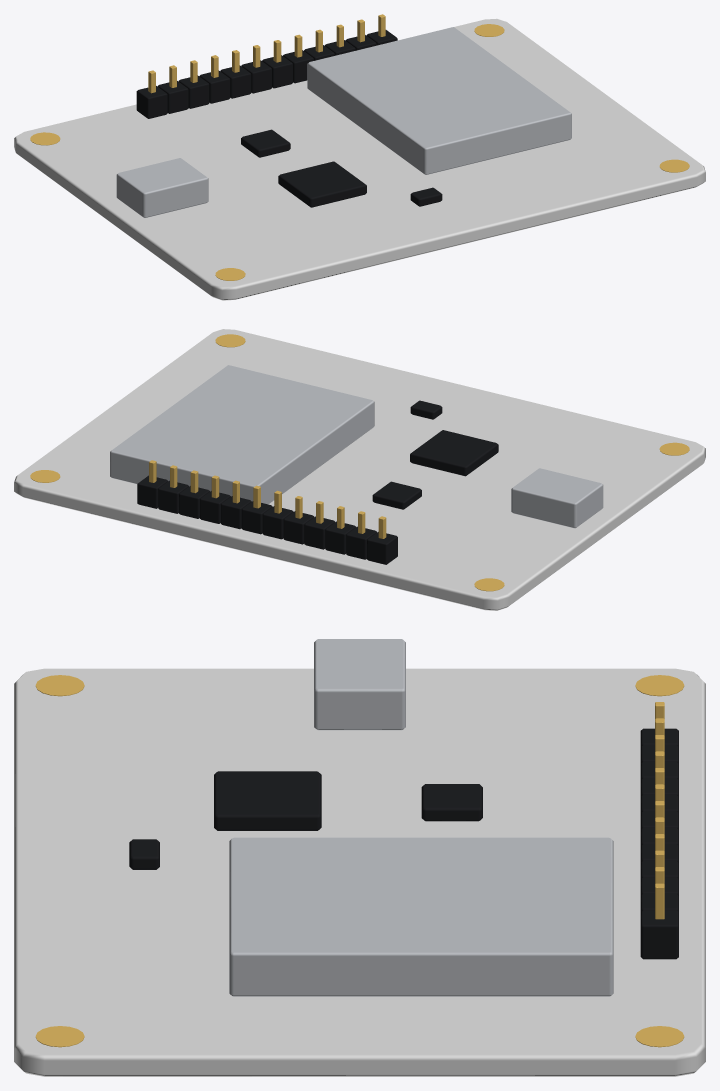
Rendered from main-board.glb.
3 views of the same model, one above another, from view 1: azimuth 30°, elevation 25°; view 2: azimuth 150°, elevation 25°; view 3: azimuth 270°, elevation 25° (orthographic). The views are drawn at different scales.
Visible parts, largest first — view 1: main-board; view 2: main-board; view 3: main-board.
Part boxes in pixels (x1,y1,x2,y2): main-board: (14,14,705,300); main-board: (14,329,705,610); main-board: (14,639,705,1076).
Size of the model in its own units: 0.06 by 0.0064 by 0.045.
